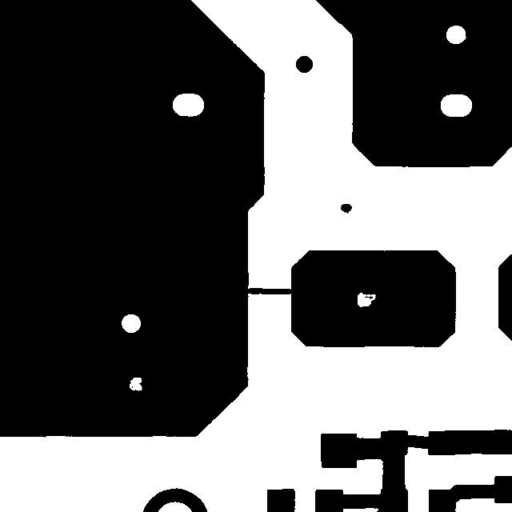copper: (288, 48, 320, 80), (333, 196, 359, 221)
pin-hole: (350, 285, 383, 314), (122, 370, 150, 398)
short: (393, 427, 441, 456), (238, 280, 299, 302)
